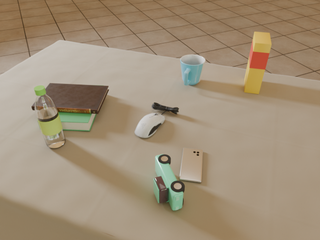book: (40, 85, 102, 131), (32, 83, 109, 114)
bottle: (34, 86, 65, 148)
box: (244, 32, 271, 94)
cup: (180, 55, 205, 85)
mouse: (135, 113, 165, 138)
phone: (179, 148, 203, 183)
toy_car: (154, 154, 185, 210)
